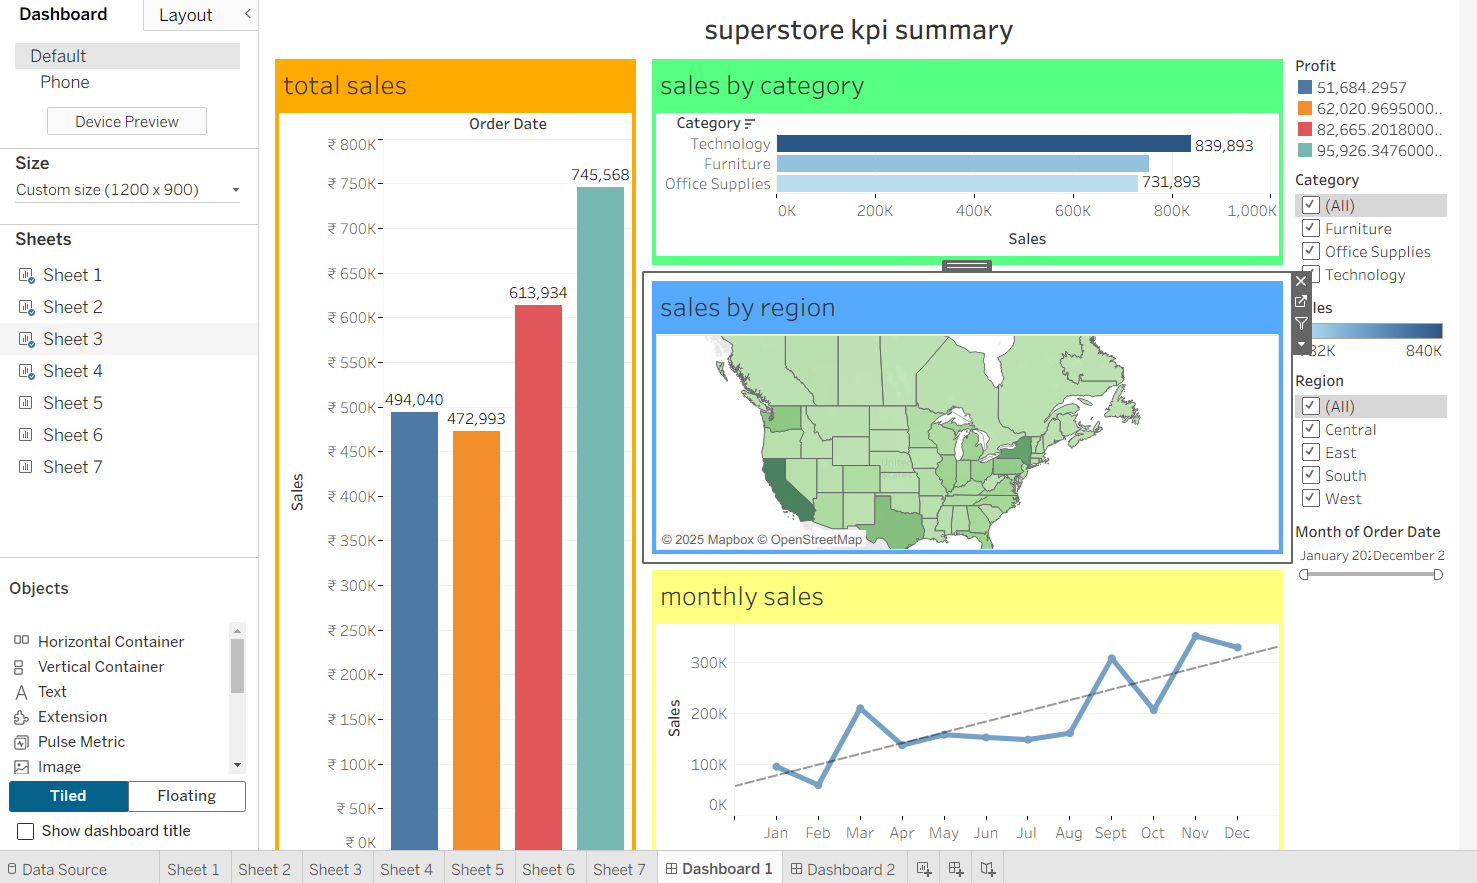

The page's visual inventory and layout, read from the dashboard file:
{"tool":"tableau","page":{"name":"Dashboard 1","canvas":[1200,900],"ordinal":0},"visuals":[{"type":"title","box":[8,8,1184,45]},{"type":"worksheet","title":"Sheet 1","mark":"Bar","rows":["Sales"],"cols":["Order Date"],"box":[8,53,377,839]},{"type":"worksheet","title":"Sheet 2","mark":"Bar","rows":["Category"],"cols":["Sales"],"box":[385,53,647,222]},{"type":"legend","title":"Sheet 1","param":"[Sample - Superstore].[sum:Profit:ok]","box":[1032,53,160,114]},{"type":"filter","title":"Sheet 2","param":"[Sample - Superstore].[none:Category:nk]","box":[1032,167,160,128]},{"type":"worksheet","title":"Sheet 3","mark":"Automatic","box":[385,275,647,289]},{"type":"legend","title":"Sheet 2","param":"[Sample - Superstore].[sum:Sales:qk]","box":[1032,295,160,73]},{"type":"filter","title":"Sheet 3","param":"[Sample - Superstore].[none:Region:nk]","box":[1032,368,160,151]},{"type":"filter","title":"Sheet 4","param":"[Sample - Superstore].[tmn:Order Date:qk]","box":[1032,519,160,73]},{"type":"worksheet","title":"Sheet 4","mark":"Automatic","rows":["Sales"],"cols":["Order Date"],"box":[385,564,647,328]}]}

Visuals, with their boxes on the page's 1200x900 design canvas (x1, y1, x2, y2). These are canvas units, not pixel positions in the 1477x883 screenshot, which may show the page scaled, cropped or inside an application window:
title: 8 8 1192 53
"Sheet 1" worksheet (Bar marks): 8 53 385 892
"Sheet 2" worksheet (Bar marks): 385 53 1032 275
"Sheet 1" legend: 1032 53 1192 167
"Sheet 2" filter: 1032 167 1192 295
"Sheet 3" worksheet: 385 275 1032 564
"Sheet 2" legend: 1032 295 1192 368
"Sheet 3" filter: 1032 368 1192 519
"Sheet 4" filter: 1032 519 1192 592
"Sheet 4" worksheet: 385 564 1032 892
